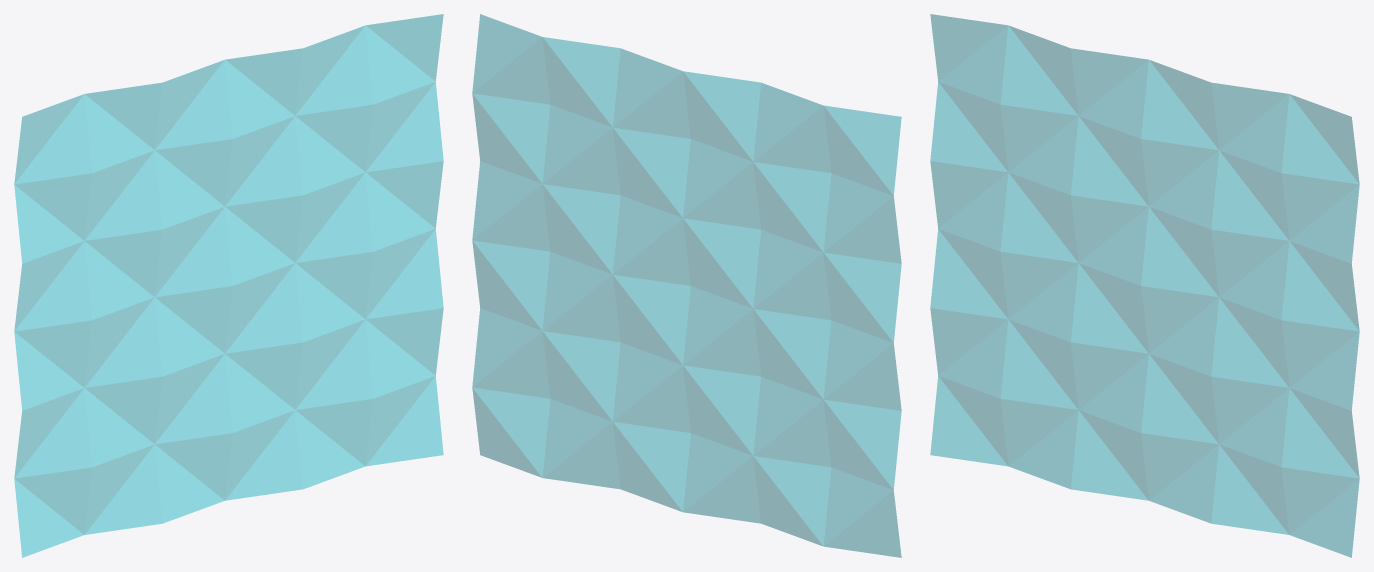
File: water.glb
The picture shows the model from 3 angles, left to right: view 1: azimuth 30°, elevation 25°; view 2: azimuth 150°, elevation 25°; view 3: azimuth 330°, elevation 25°; orthographic projection.
Parts seen in each view (by area): view 1: water; view 2: water; view 3: water.
Boxes of the visible parts, x1=… form: water: x1=14, y1=14, x2=443, y2=557; water: x1=472, y1=14, x2=901, y2=557; water: x1=930, y1=14, x2=1359, y2=557.
Size of the model in its own units: 1 by 1 by 0.0325.
